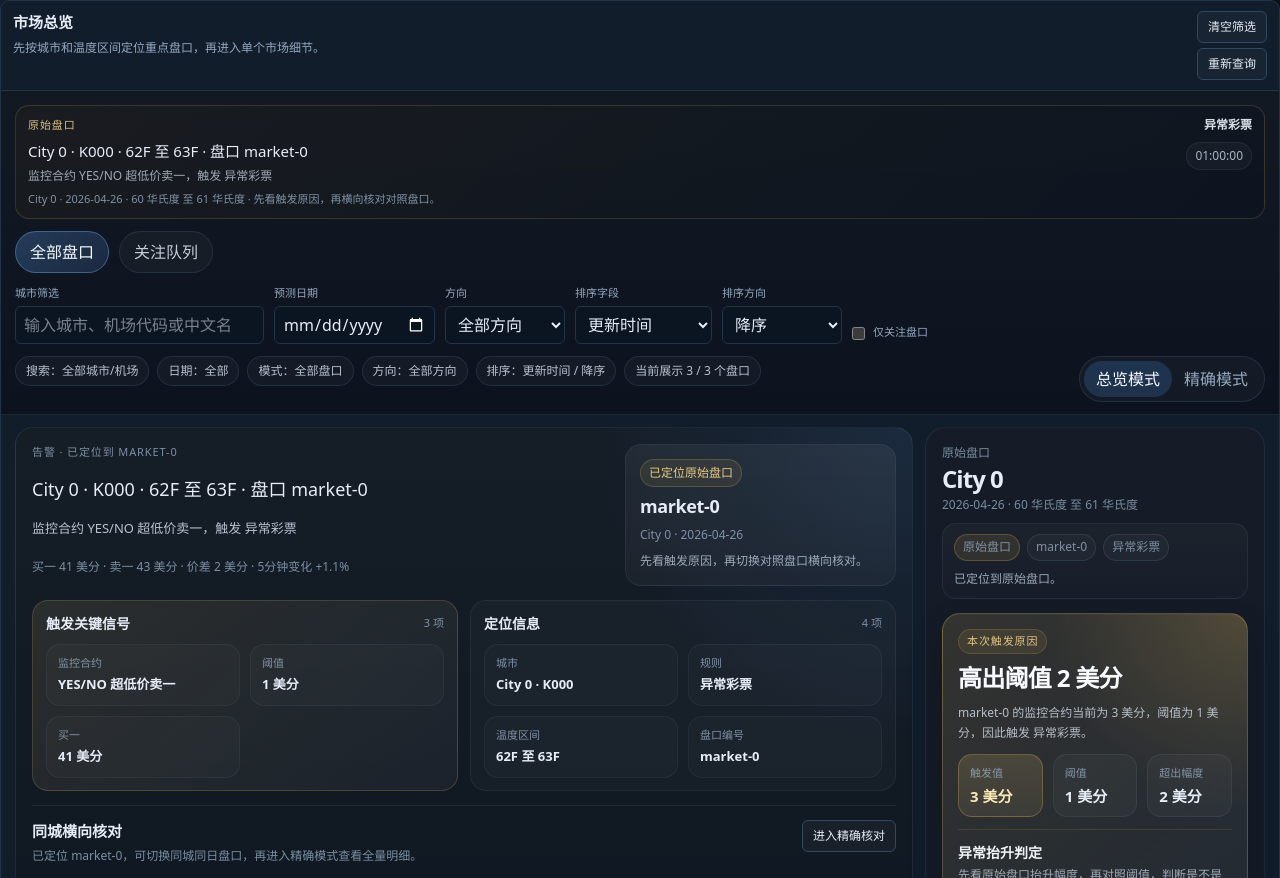
it: MarketExplorerView › highlights the lottery column header for lottery-driven precise focus
Step 1. Click the button with test id "market-alert-open-precise" → (849, 836), box [802,820,896,852]
(page scrolled)
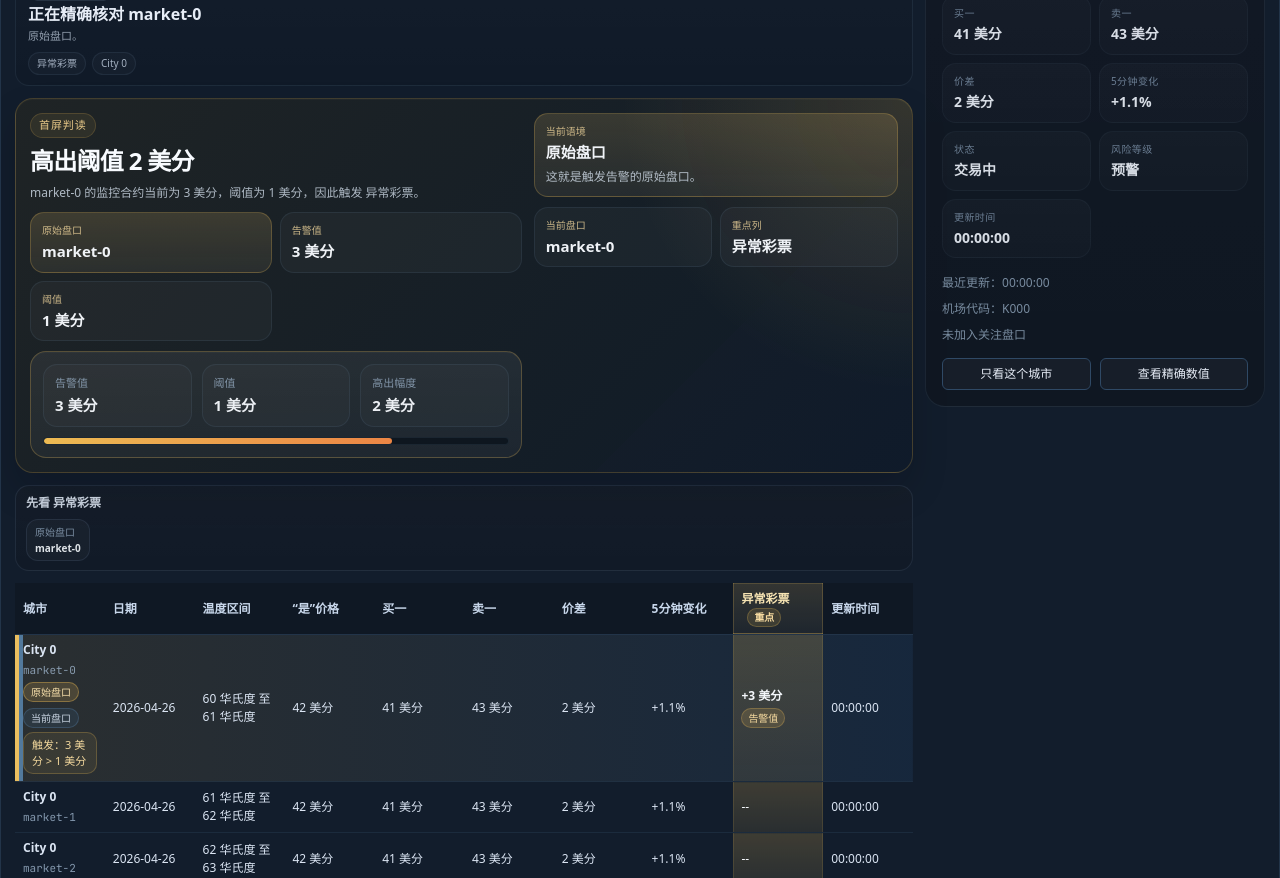
Expected: the element with test id "market-precision-guide" is shown, [15,484,913,571]
Expected: the column heading with test id "market-precision-header-lottery" is shown, [733,583,823,635]
